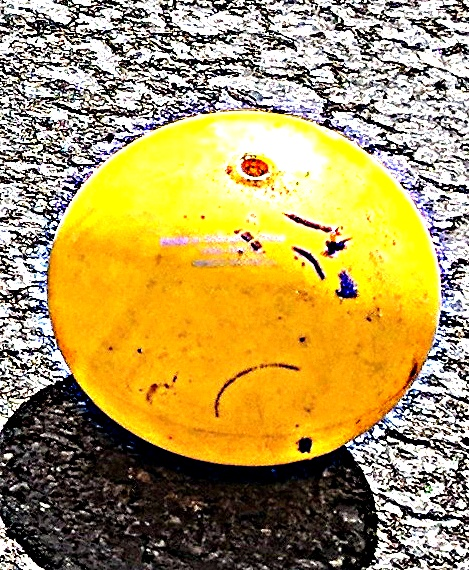ball: (46, 107, 440, 466)
